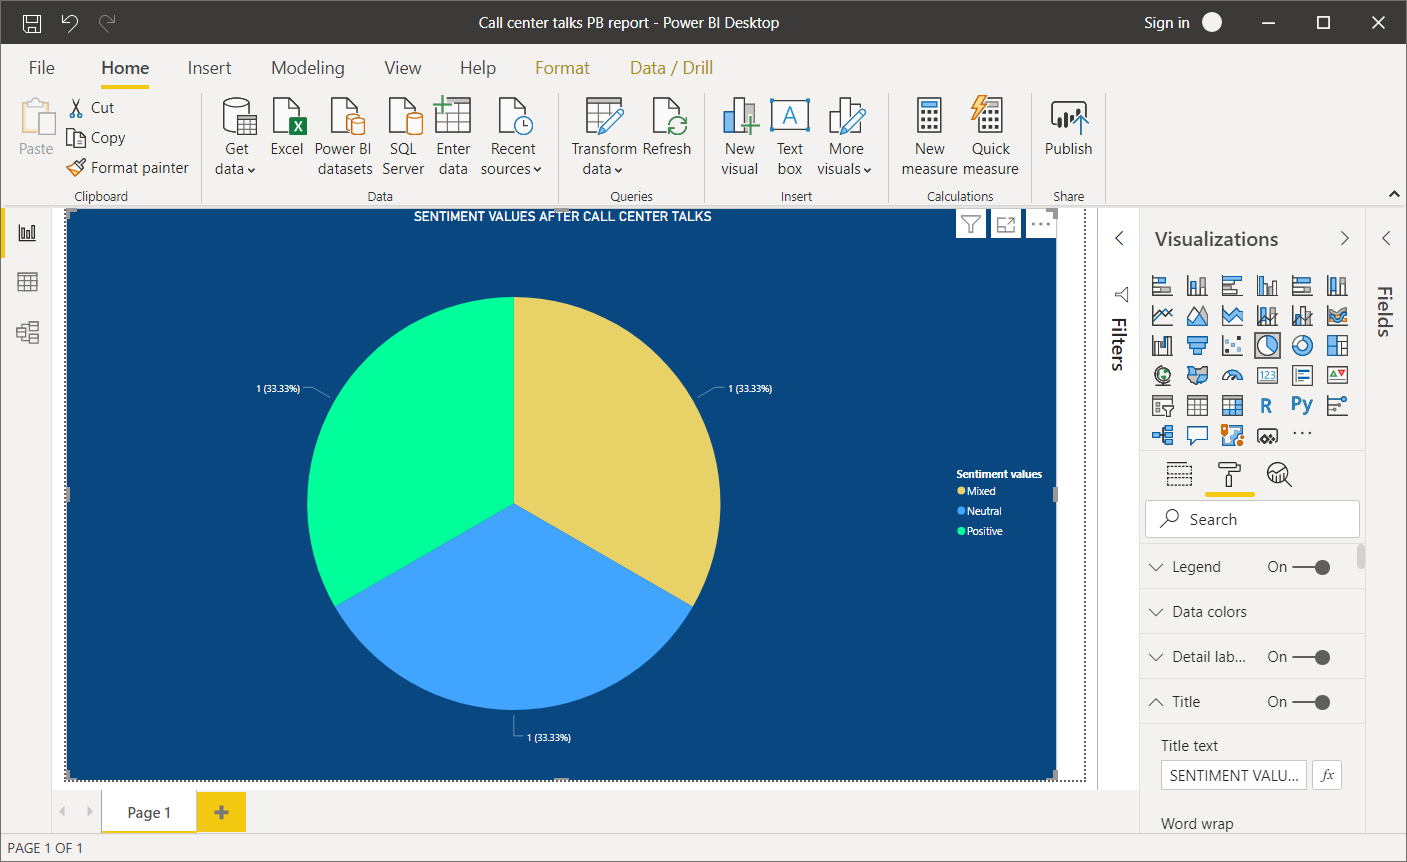

Layout of this report page (visuals, bound fields, positions):
{"tool":"powerbi","page":{"name":"Page 1","canvas":[1280,720],"ordinal":0},"visuals":[{"type":"pieChart","title":"SENTIMENT VALUES AFTER CALL CENTER TALKS","fields":{"Category":["Query1.Document.sentimentValues"],"Y":["CountNonNull(Query1.Document.id)"]},"box":[0,0,1246.8,721.5],"z":1}]}

Visuals, with their boxes on the page's 1280x720 design canvas (x1, y1, x2, y2). These are canvas units, not pixel positions in the 1407x862 screenshot, which may show the page scaled, cropped or inside an application window:
"SENTIMENT VALUES AFTER CALL CENTER TALKS" pieChart: {"left": 0, "top": 0, "right": 1247, "bottom": 722}
